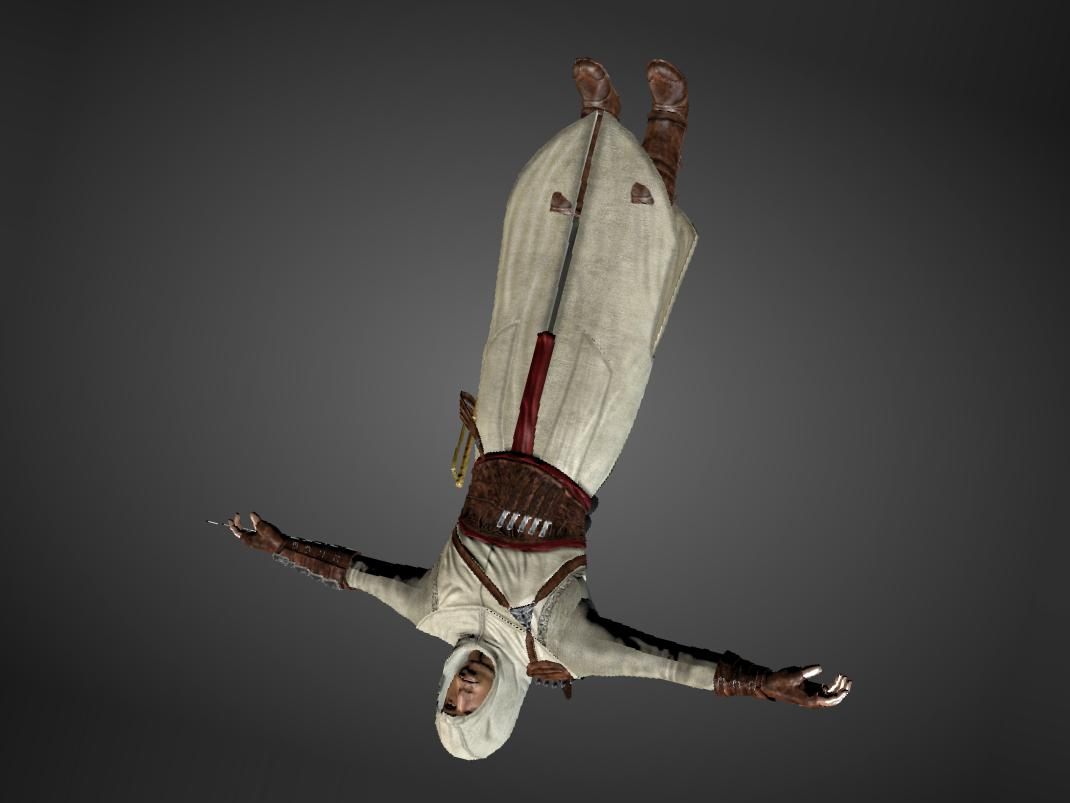clip: (621, 177, 669, 212), (548, 184, 579, 220)
